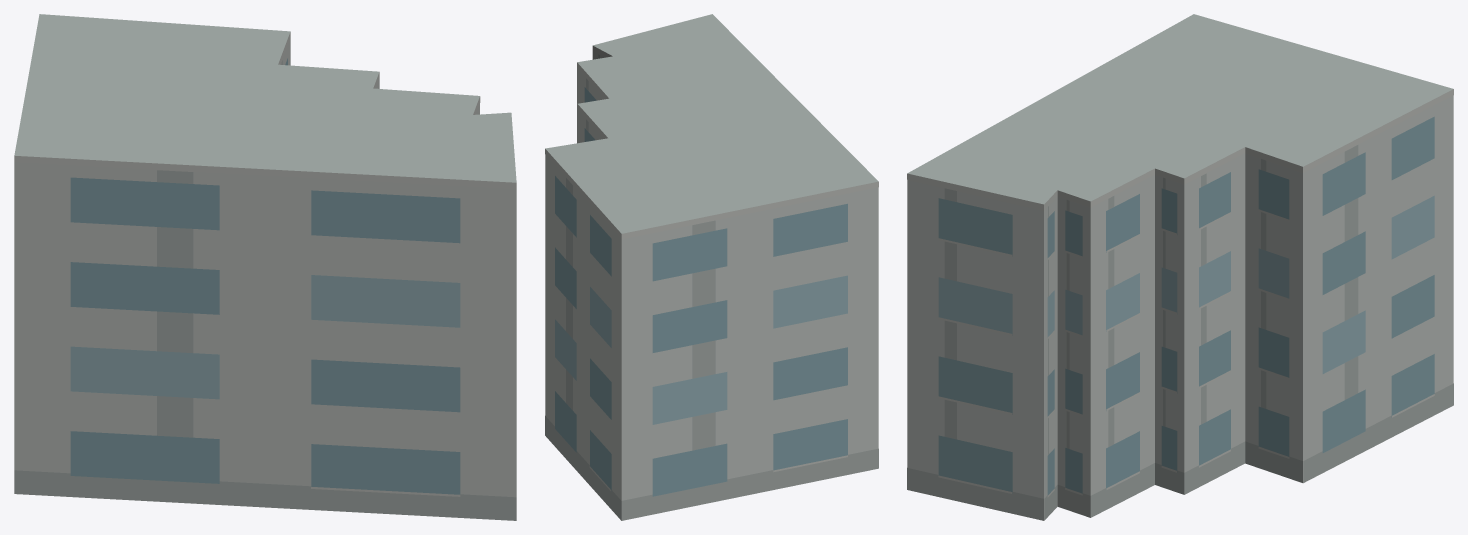
The model's file is residential-3523f322-5e4c-4e61-81dd-81df7fbad263.glb.
3 views of the same model, side by side, from view 1: azimuth 30°, elevation 25°; view 2: azimuth 150°, elevation 25°; view 3: azimuth 270°, elevation 25° (orthographic). The views are drawn at different scales.
Visible parts, largest first — view 1: residential-3523f322-5e4c-4e61-81dd-81df7fbad263.tmp; view 2: residential-3523f322-5e4c-4e61-81dd-81df7fbad263.tmp; view 3: residential-3523f322-5e4c-4e61-81dd-81df7fbad263.tmp.
Boxes of the visible parts, x1,y1,x2,y2 form: residential-3523f322-5e4c-4e61-81dd-81df7fbad263.tmp: [14, 14, 516, 520]; residential-3523f322-5e4c-4e61-81dd-81df7fbad263.tmp: [545, 14, 878, 520]; residential-3523f322-5e4c-4e61-81dd-81df7fbad263.tmp: [907, 14, 1453, 520].
Bounding box in the file's own units: 15.76 × 12.2 × 19.11.
